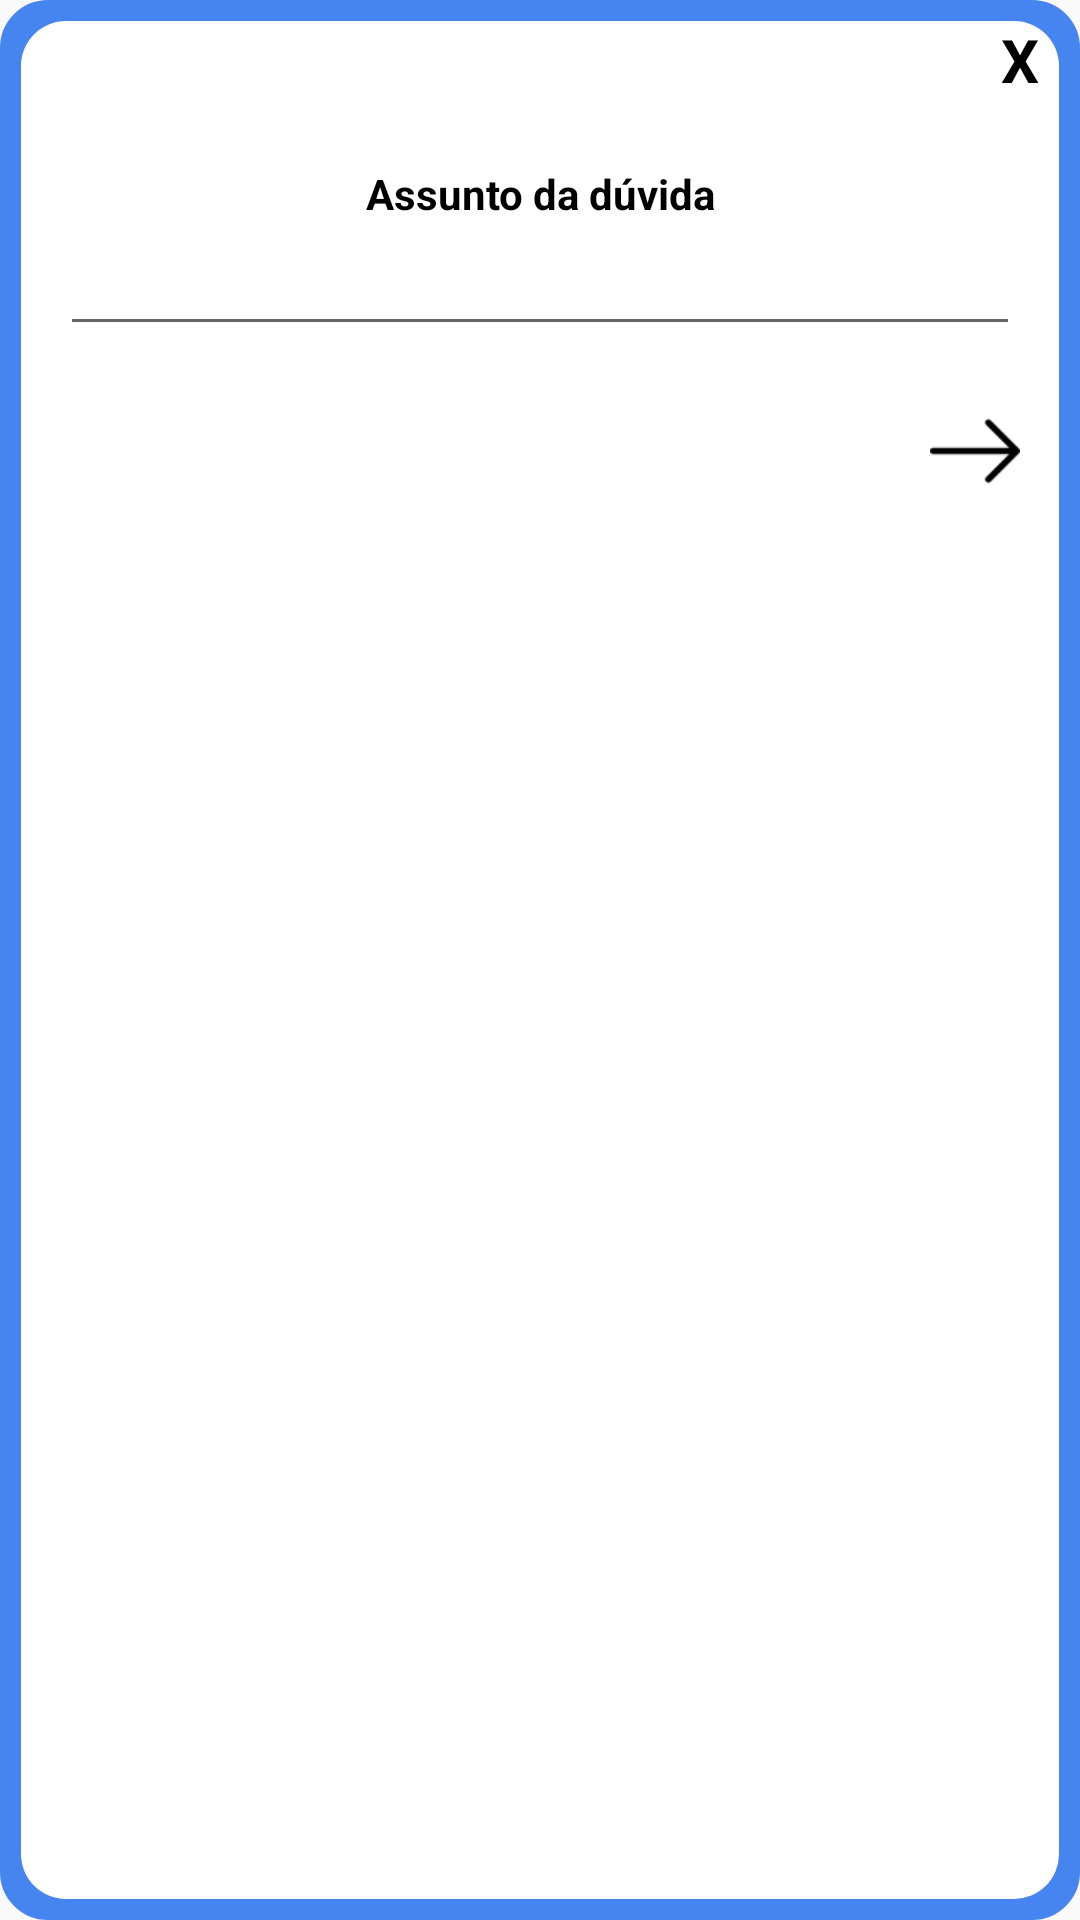

Icons on this 1080px x 1920px Android screen, each with its box as (x1, y1, x2, y2):
rightarrow: (930, 418, 1020, 484)
